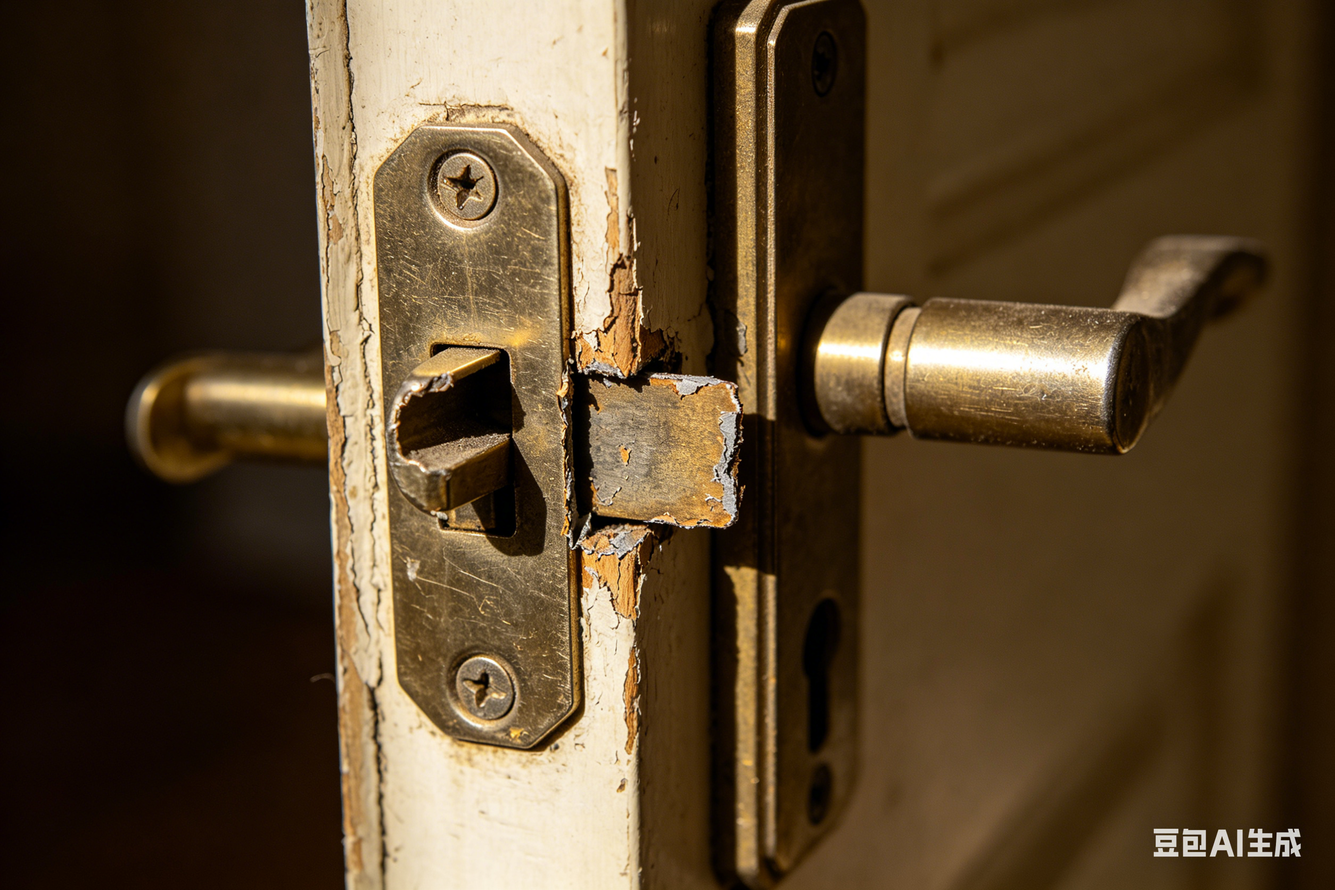BadLock: (381, 335, 573, 513), (596, 355, 757, 540)
